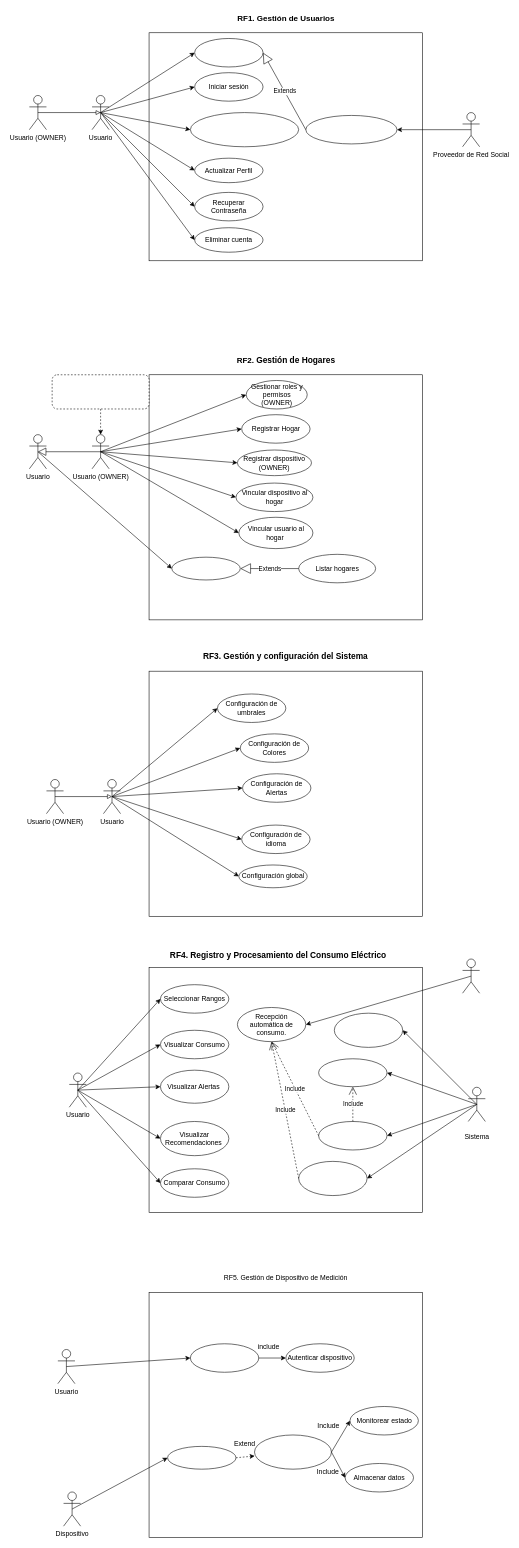
Image size: 519x1548. Some labels were removed from this diagram. Each missing label, with the centre of its shape:
"Aceptar términos y permisos del sistema" goes at [244,129].
"Autenticación con Redes Sociales y registro" goes at [351,129].
"Dispositivo de medición" goes at [471,975].
"Enviar alertas al usuario" goes at [352,1072].
"Genera Alertas" goes at [352,1135].
"Genera Recomendaciones" goes at [332,1178].
"Generar gráficos de tendencias" goes at [368,1030].
"Reconexión automatica" goes at [201,1457].
"Registrar Usuario" goes at [228,52].
"Solo el Usuario (OWNER) puede gestionar dispositivos y usuarios del hogar" goes at [100,391].
"Transmisión de datos de medición" goes at [292,1451].
"Ver información" goes at [205,568].
"Vincular dispositivo" goes at [224,1357].
